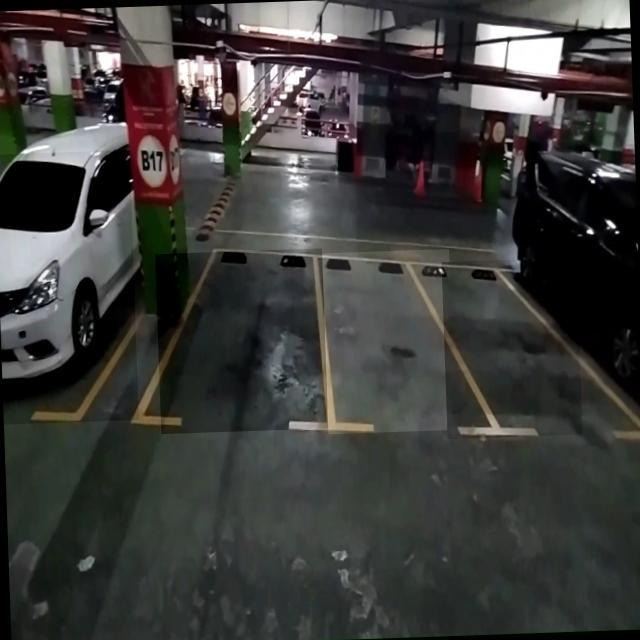empty: (154, 248, 328, 434), (441, 257, 582, 439), (322, 248, 455, 434)
occupied: (0, 150, 138, 424)
